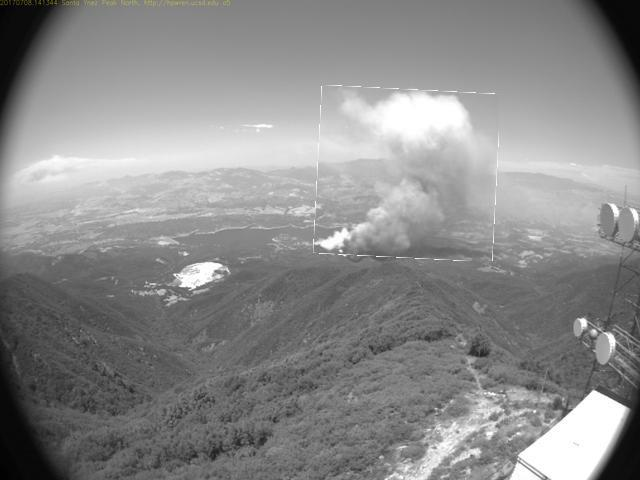smoke: (316, 89, 499, 261)
